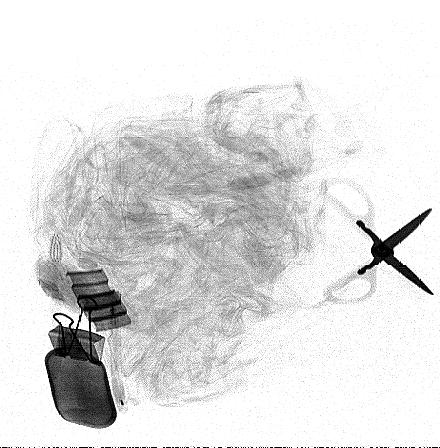Scissors: (309, 174, 438, 306)
